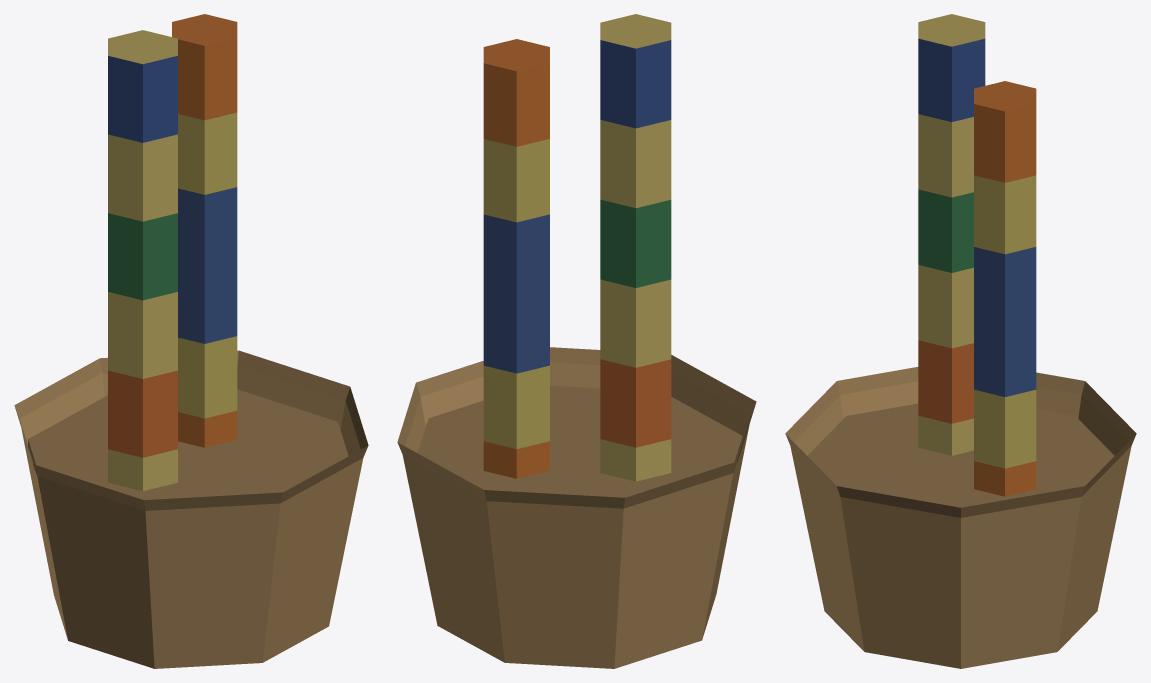
File: kente-throw-roll-33.glb
The picture shows the model from 3 angles, left to right: view 1: azimuth 30°, elevation 25°; view 2: azimuth 150°, elevation 25°; view 3: azimuth 270°, elevation 25°; orthographic projection. The views are drawn at different scales.
Visible parts, largest first — view 1: kente_throw_roll_33; view 2: kente_throw_roll_33; view 3: kente_throw_roll_33.
Part boxes in pixels (x1=…): kente_throw_roll_33: x1=14, y1=14, x2=368, y2=668; kente_throw_roll_33: x1=397, y1=14, x2=756, y2=668; kente_throw_roll_33: x1=785, y1=14, x2=1136, y2=668.
Size of the model in its own units: 0.5145 by 0.8982 by 0.5145.
